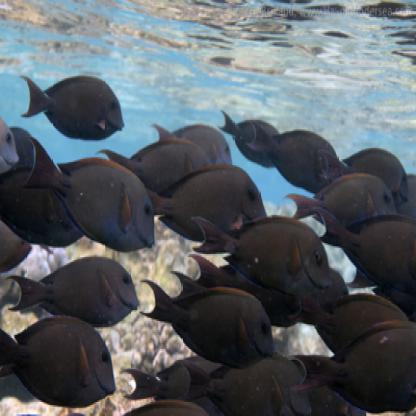Bio: (26, 134, 158, 252), (187, 204, 338, 298), (135, 276, 279, 372), (132, 154, 276, 243), (290, 312, 415, 408), (0, 312, 121, 408), (282, 170, 406, 251), (17, 61, 132, 142), (5, 254, 140, 321), (250, 113, 348, 192), (219, 106, 292, 172)
